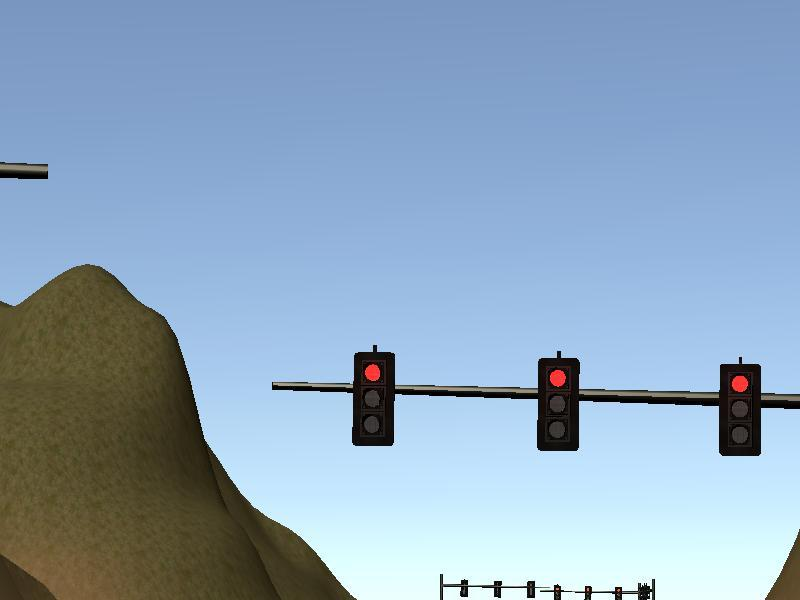Red: (353, 352, 394, 446), (719, 364, 760, 458), (538, 358, 579, 452), (583, 585, 592, 600), (553, 584, 561, 600), (614, 586, 623, 600)
